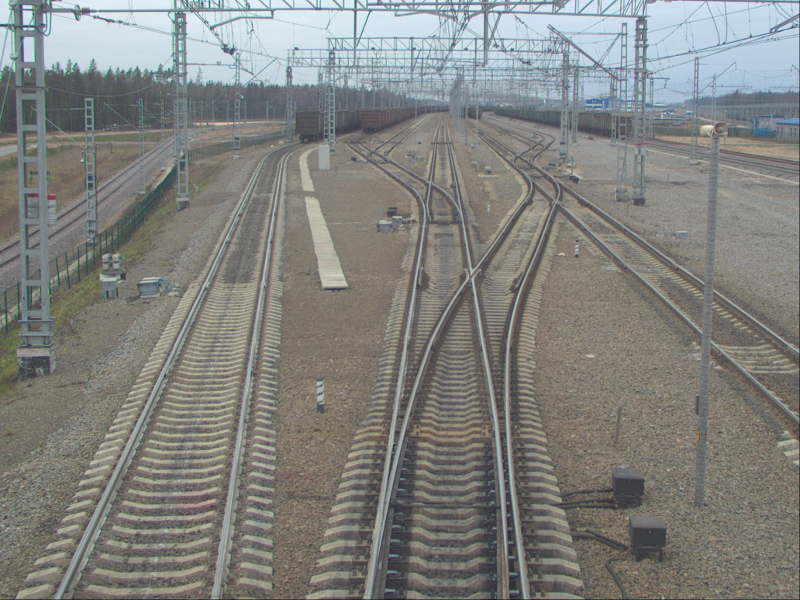left: (421, 181, 465, 223)
right: (361, 259, 537, 598)
